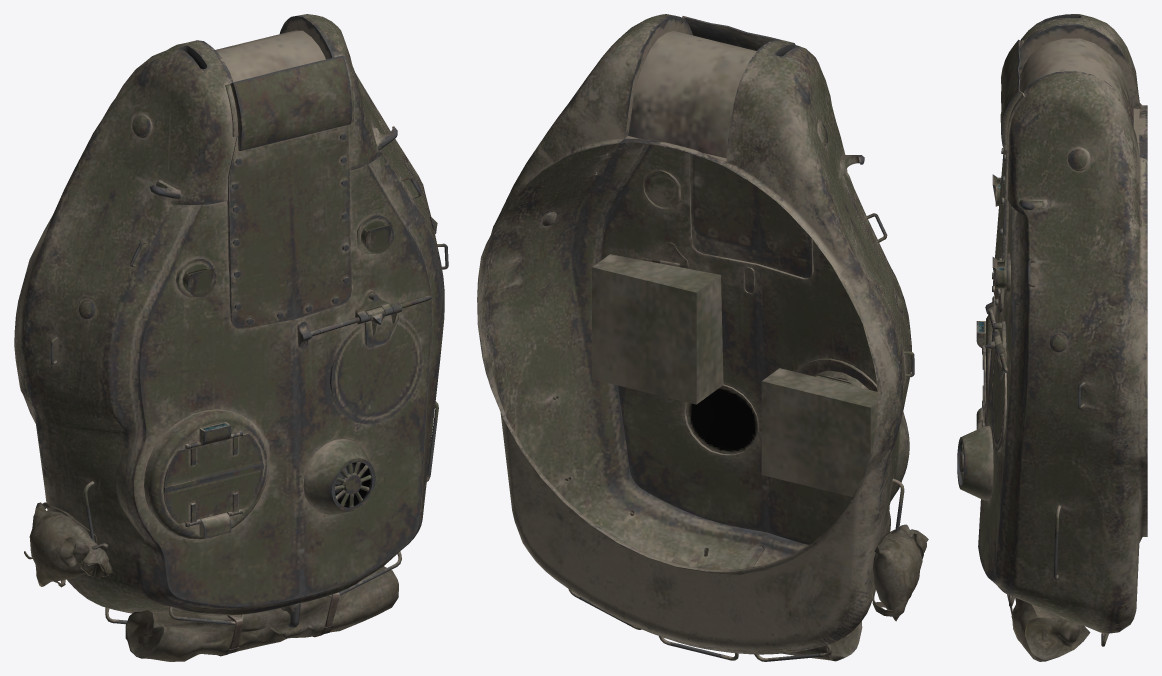
File: Turret_02.glb
The picture shows the model from 3 angles, left to right: view 1: azimuth 30°, elevation 25°; view 2: azimuth 150°, elevation 25°; view 3: azimuth 270°, elevation 25°; orthographic projection. The views are drawn at different scales.
Parts seen in each view (by area): view 1: set_0_group_0; view 2: set_0_group_0; view 3: set_0_group_0.
Part boxes in pixels (<box>): set_0_group_0: <box>14,14,448,661</box>; set_0_group_0: <box>477,14,928,661</box>; set_0_group_0: <box>957,14,1147,661</box>.
Size of the model in its own units: 2.29 by 3.2 by 0.9664.
1 material, 1 textured.
